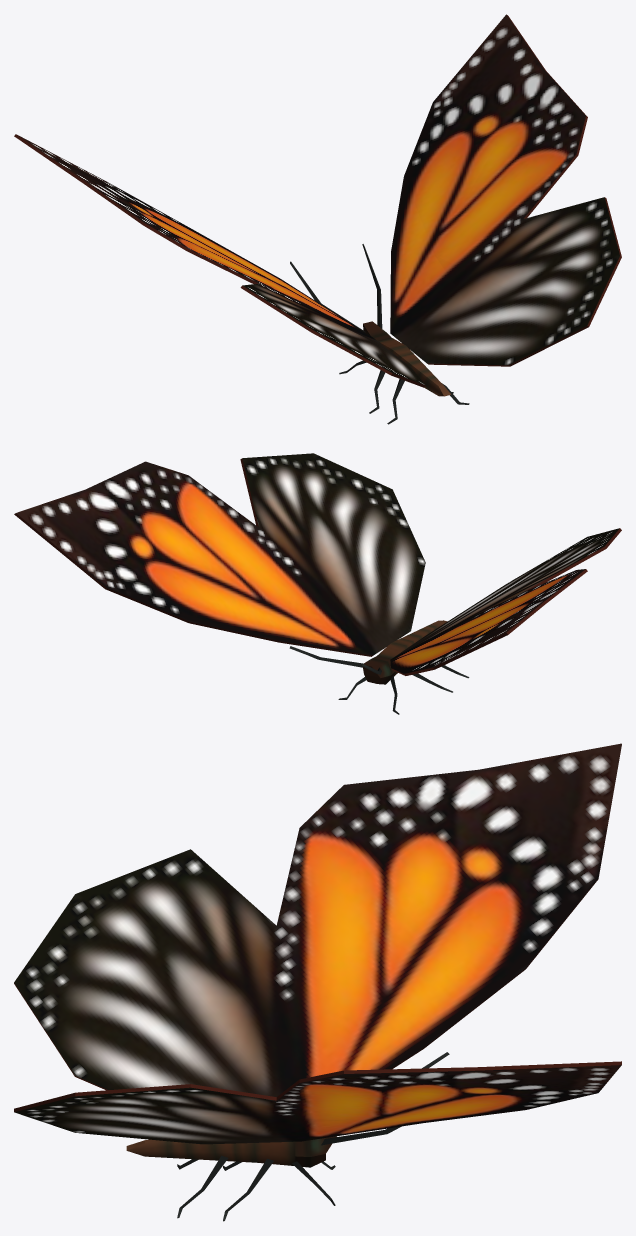
The model's file is Butterfly_01.FBX.
3 views of the same model, one above another, from view 1: azimuth 30°, elevation 25°; view 2: azimuth 150°, elevation 25°; view 3: azimuth 270°, elevation 25° (orthographic). The views are drawn at different scales.
Visible parts, largest first — view 1: Butterfly_Wing_Right_01, Butterfly_Wing_Left_01, Butterfly_01; view 2: Butterfly_Wing_Right_01, Butterfly_Wing_Left_01, Butterfly_01; view 3: Butterfly_Wing_Left_01, Butterfly_Wing_Right_01, Butterfly_01.
Boxes of the visible parts, x1,y1,x2,y2 form: Butterfly_Wing_Right_01: [390, 14, 621, 366]; Butterfly_Wing_Left_01: [14, 134, 425, 387]; Butterfly_01: [290, 244, 469, 424]; Butterfly_Wing_Right_01: [14, 453, 425, 656]; Butterfly_Wing_Left_01: [390, 528, 621, 675]; Butterfly_01: [289, 620, 469, 714]; Butterfly_Wing_Left_01: [14, 743, 621, 1096]; Butterfly_Wing_Right_01: [14, 1061, 621, 1144]; Butterfly_01: [126, 1052, 449, 1221].
Size of the model in its own units: 75.52 by 32.08 by 60.55.
